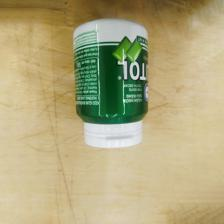Xylitol_green: (72, 19, 150, 150)
